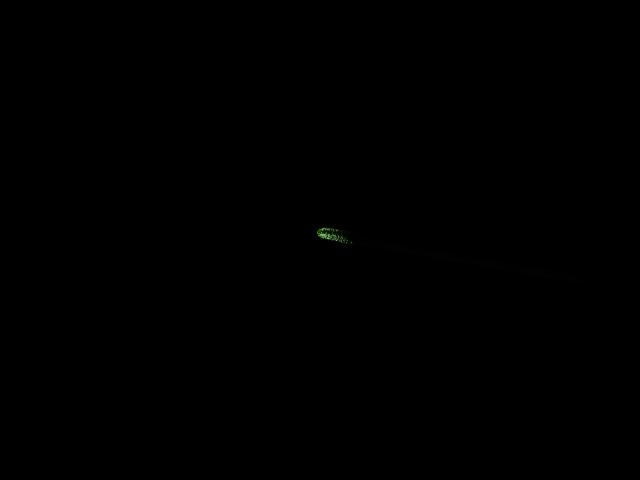cucumber: (315, 225, 359, 246)
